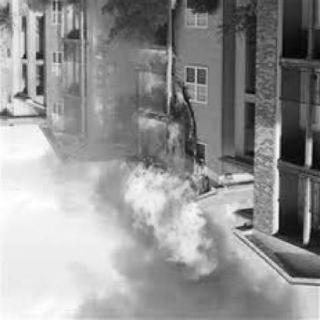Fire: (116, 52, 222, 278), (224, 202, 250, 225), (170, 3, 182, 16)
Smoke: (111, 278, 302, 320), (96, 174, 120, 214)
